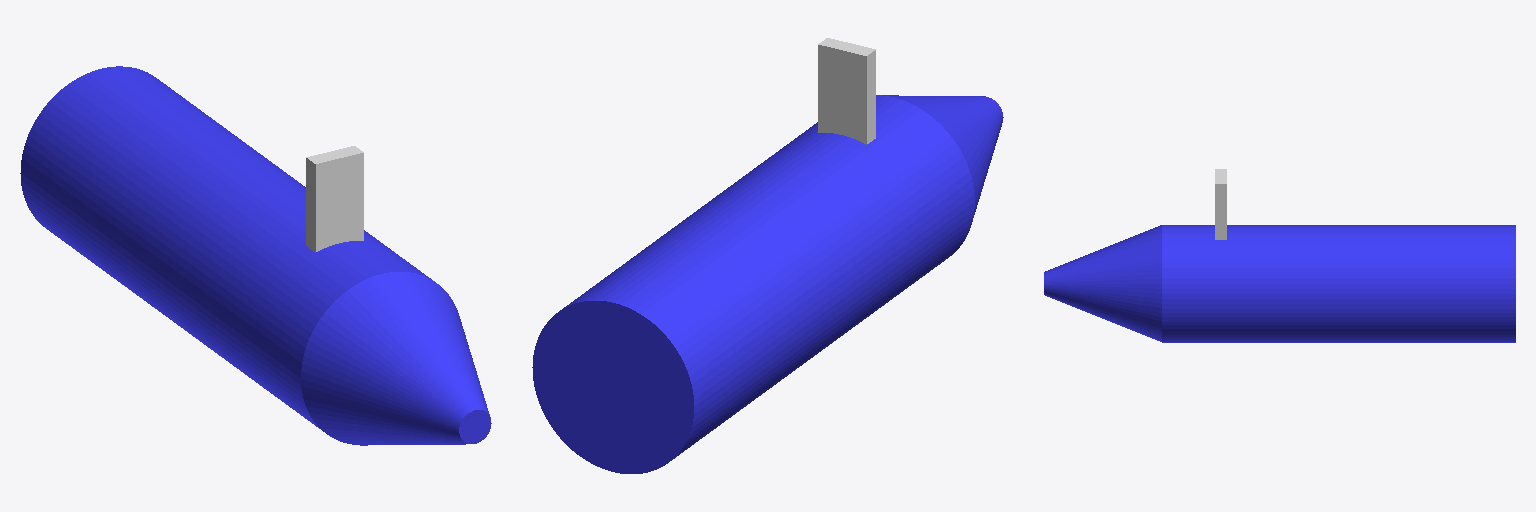
URDF robot description (dispenser_3):
<?xml version="0.0" ?>
<robot name="dispenser_3">
  <link name="base_link">
  <contact>
      <lateral_friction value="1"/>
  </contact>
    <inertial>
      <origin rpy="0 0 0" xyz="0 0 0"/>
       <mass value="0.2"/>
       <inertia ixx="0.001" ixy="0" ixz="0" iyy="0.001" iyz="0" izz="0.001"/>
    </inertial>
    <visual>
      <origin rpy="0 0 0" xyz="0 0 0"/>
      <geometry>
				<mesh filename="dispenser.obj" scale="0.001 0.001 0.001"/>
      </geometry>
       <material name="blueish">
        <color rgba="0.3 0.3 1 1"/>
      </material>
    </visual>
    <collision>
      <origin rpy="0 0 0" xyz="0 0 0"/>
      <geometry>
				<mesh filename="dispenser.obj" scale="0.001 0.001 0.001"/>
      </geometry>
    </collision>
  </link>
  <link
    name="knob">
    <inertial>
      <origin xyz="0 0 0" rpy="0 0 0" />
      <mass
        value="0.001" />
      <inertia
        ixx="2.66832029033166E-07"
        ixy="1.66142314639824E-15"
        ixz="1.45945633322873E-07"
        iyy="1.3889233257419E-06"
        iyz="2.82951161241588E-15"
        izz="1.26603336914415E-06" />
    </inertial>
    <visual>
      <origin xyz="0 0 0" rpy="0 0 0" />
      <geometry>
        <mesh filename="../cube_like/cube.obj" scale="0.03 0.01 0.1" />
      </geometry>
      <material name="">
        <color rgba="0.9 0.9 0.9 1" />
      </material>
    </visual>
    <collision>
      <origin xyz="0 0 0" rpy="0 0 0" />
      <geometry>
        <mesh filename="../cube_like/cube.obj" scale="0.03 0.01 0.1" />
      </geometry>
    </collision>
  </link>
  <joint
    name="knob_joint"
    type="revolute">
    <origin xyz="0 0.2 0.05" rpy="0 0 0" />
    <parent link="base_link" />
    <child link="knob" />
    <axis xyz="1 0 0" />
    <limit lower="-1.57" upper="1.57" velocity="2.0" effort="1" />
  </joint>
</robot>

--- What the picture shows (computed from the rendered views, not written in the file) ---
3 views of the same robot in one strip: view 1: azimuth 30°, elevation 25°; view 2: azimuth 150°, elevation 25°; view 3: azimuth 270°, elevation 25° (orthographic).
Robot: dispenser_3 — 2 links, 1 joints (1 revolute); root link base_link; default pose: every joint at zero.
Visible links, largest first — view 1: base_link, knob; view 2: base_link, knob; view 3: base_link, knob.
Link boxes in pixels (bbox=[...]): base_link: bbox=[20, 66, 491, 445]; knob: bbox=[306, 146, 363, 252]; base_link: bbox=[532, 95, 1003, 473]; knob: bbox=[818, 38, 875, 144]; base_link: bbox=[1044, 225, 1515, 342]; knob: bbox=[1215, 169, 1226, 239].
Bounding box of the posed robot: 0.1 × 0.4 × 0.15 m (x, y, z).
Meshes: 2 distinct files referenced, 2 mesh visuals loaded (2 OBJ).
